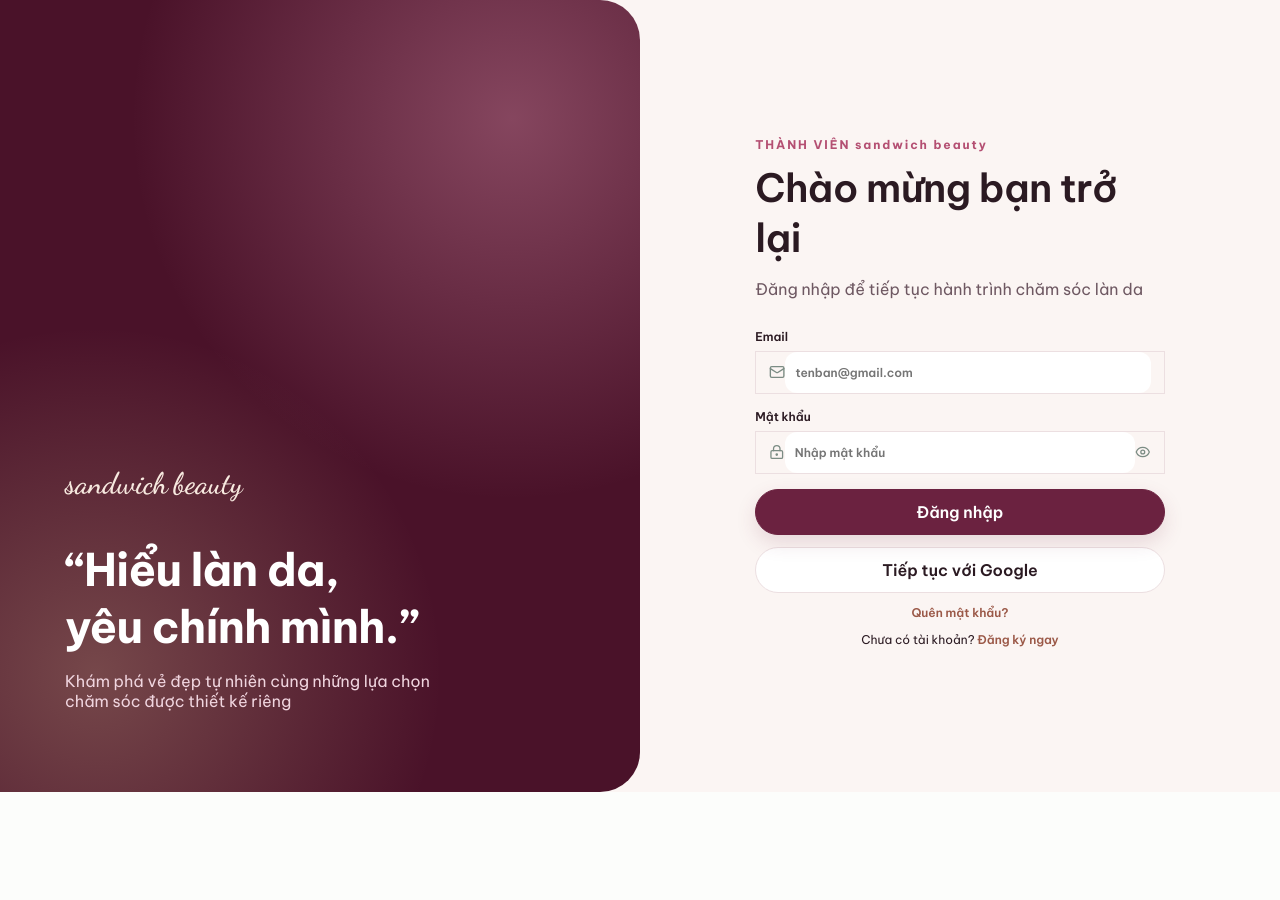
Test: keeps email login available if the Google popup fails
This screenshot has width=1280, height=900.
Click the button "Tiếp tục với Google": [960, 570] box [755, 547, 1165, 593]
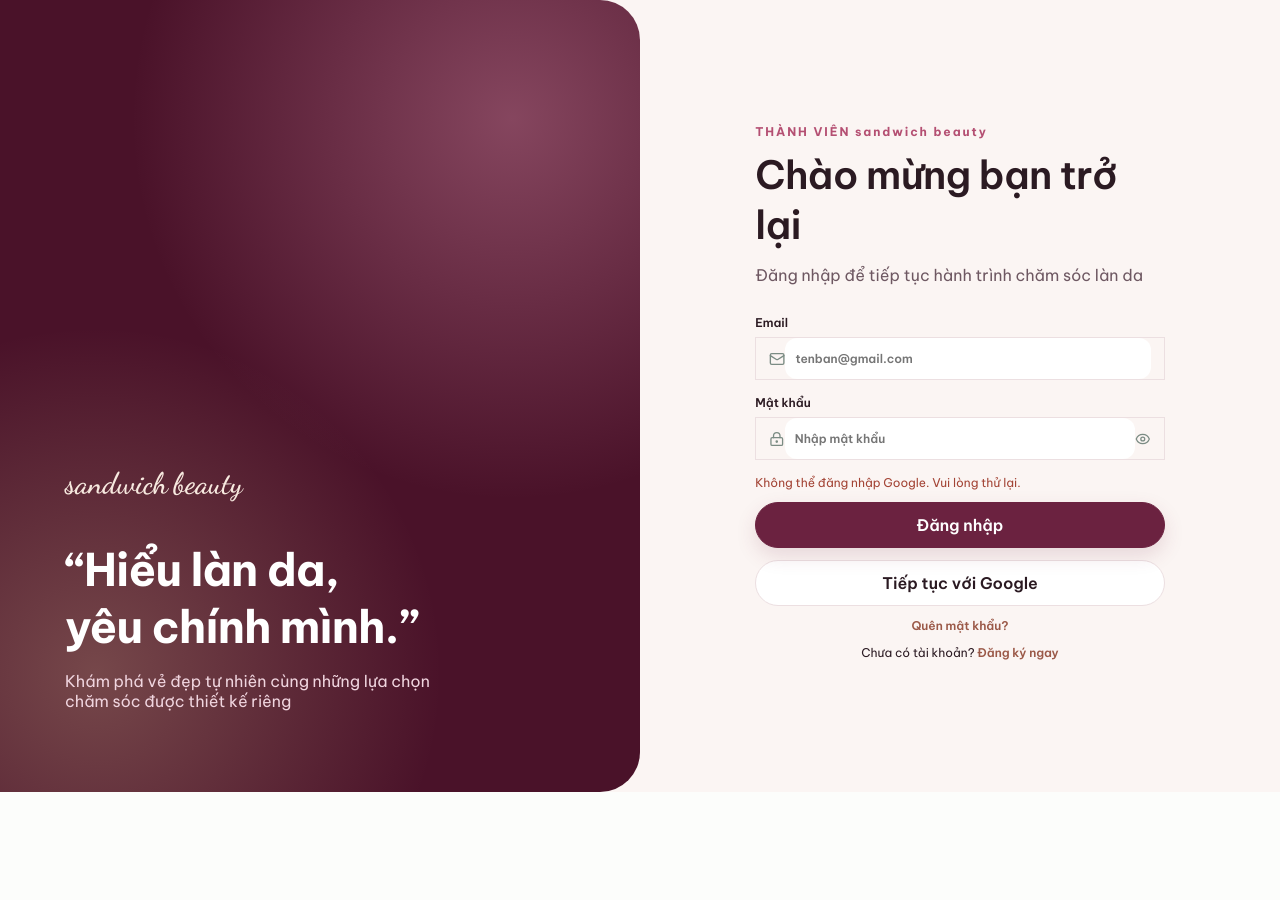
Check: the button "Đăng nhập" is enabled, box [755, 502, 1165, 548]
Check: the text "Không thể đăng nhập Google. Vui lòng thử lại." is shown, box [755, 475, 1021, 490]
